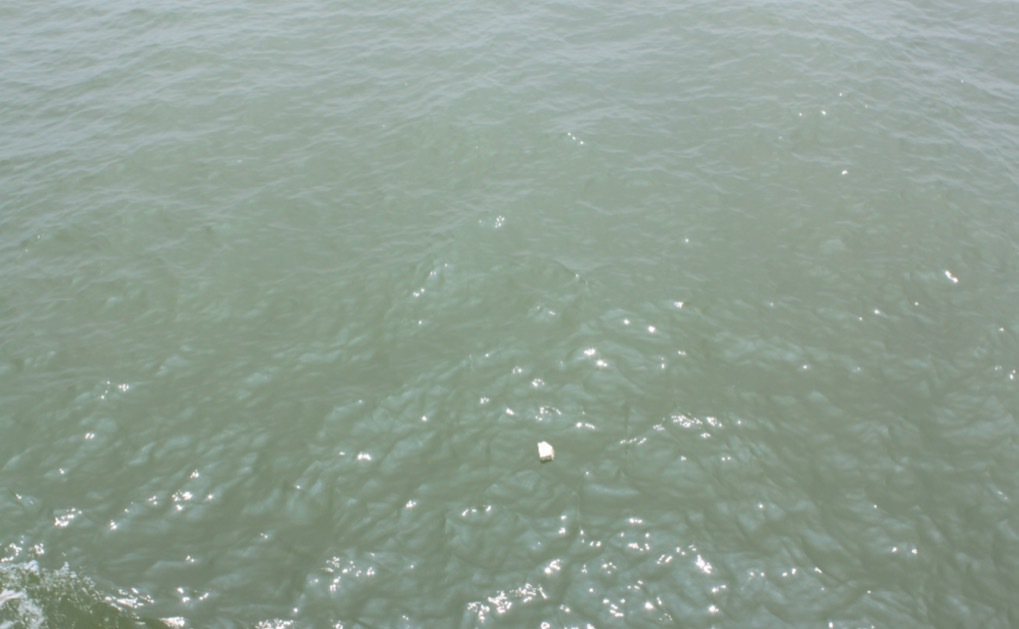plastic: (529, 428, 570, 474)
